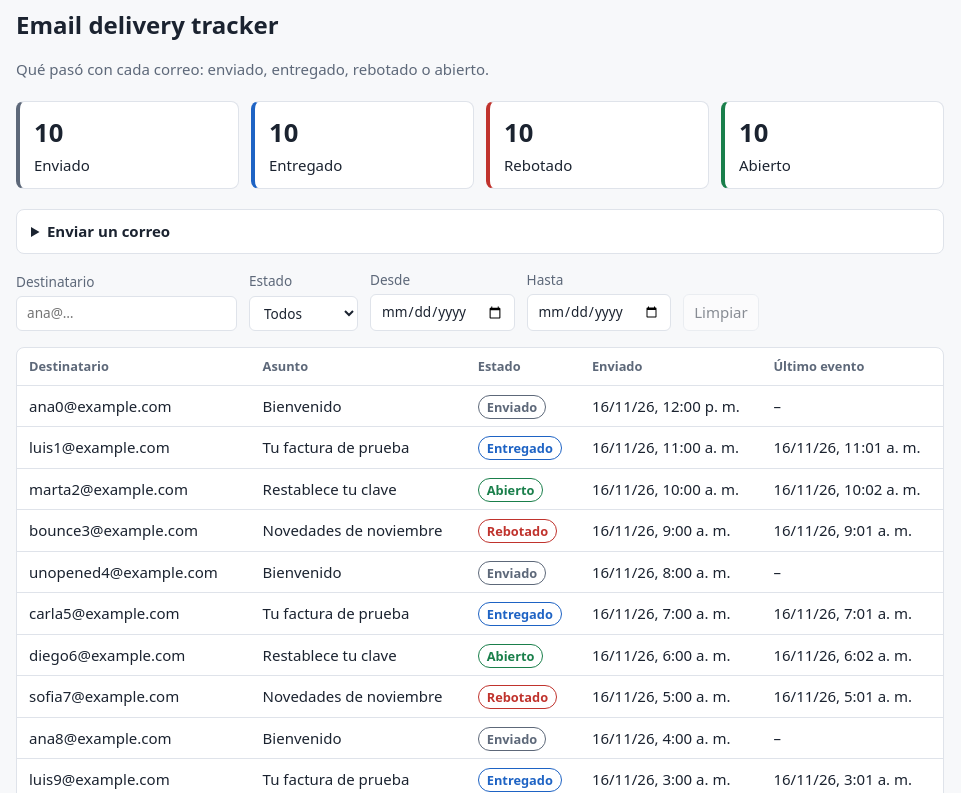
Test: enviar un correo lo confirma, limpia el formulario y aparece en la tabla
Click the heading "Enviar un correo" at (108, 231), box [47, 221, 170, 241]
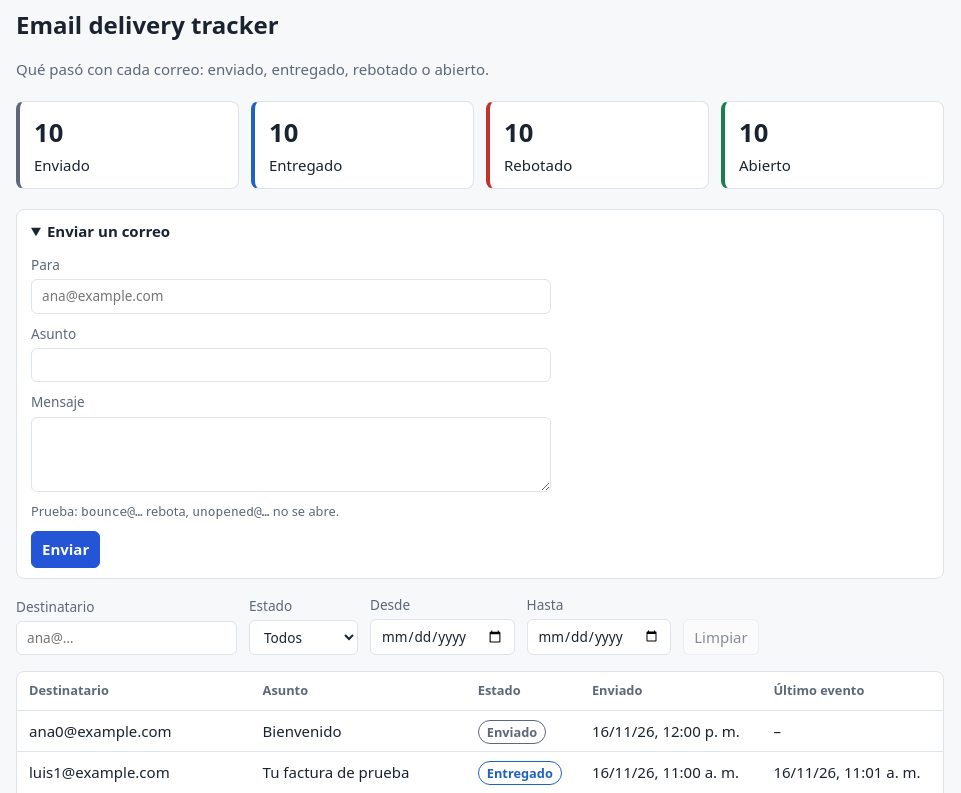
Type "nueva@example.com" into the field labelled "Para" at (291, 296), box [31, 279, 551, 314]
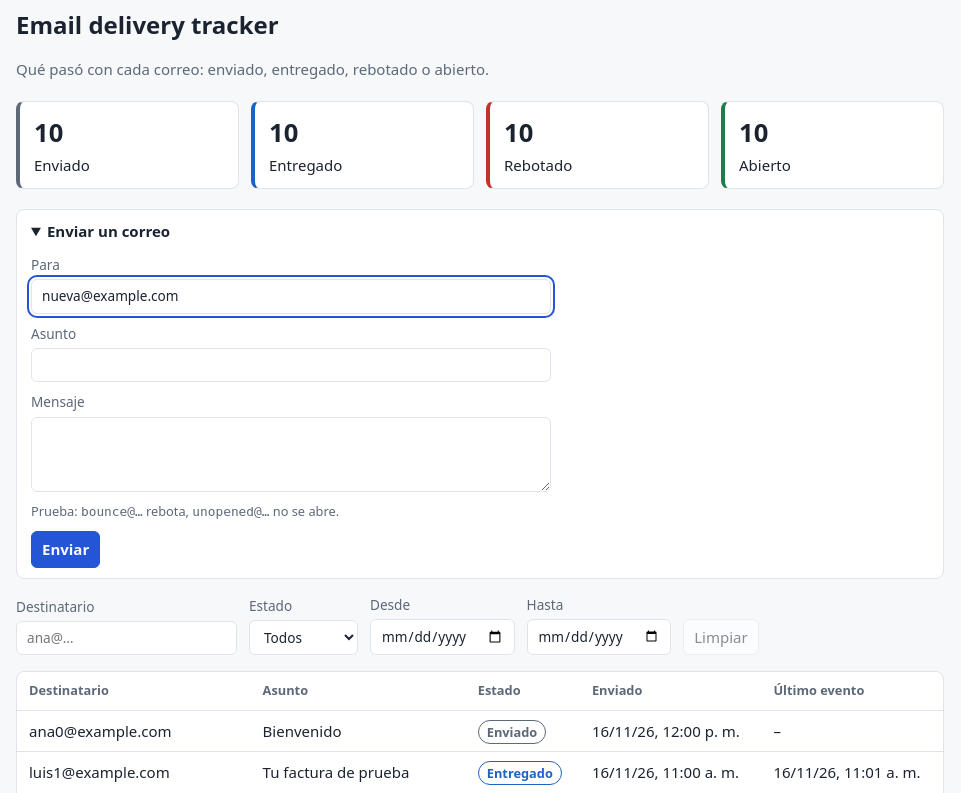
Type "Hola desde el test" into the field labelled "Asunto" at (291, 365), box [31, 348, 551, 382]
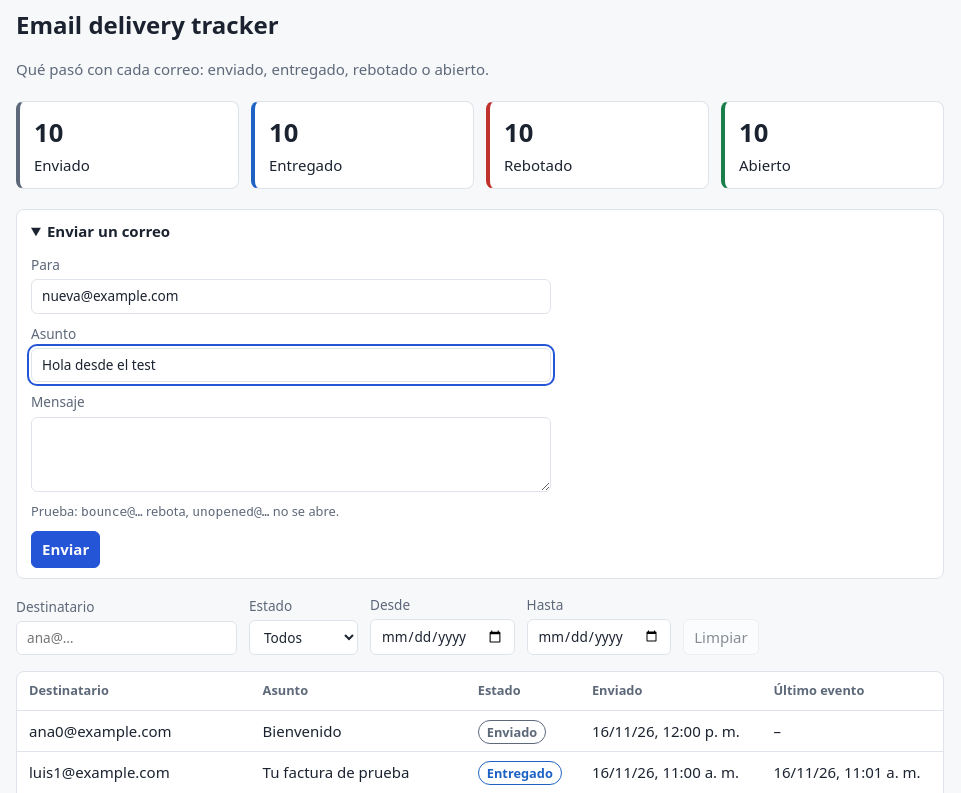
Type "Texto" into the text box labelled "Mensaje" at (291, 454), box [31, 417, 551, 492]
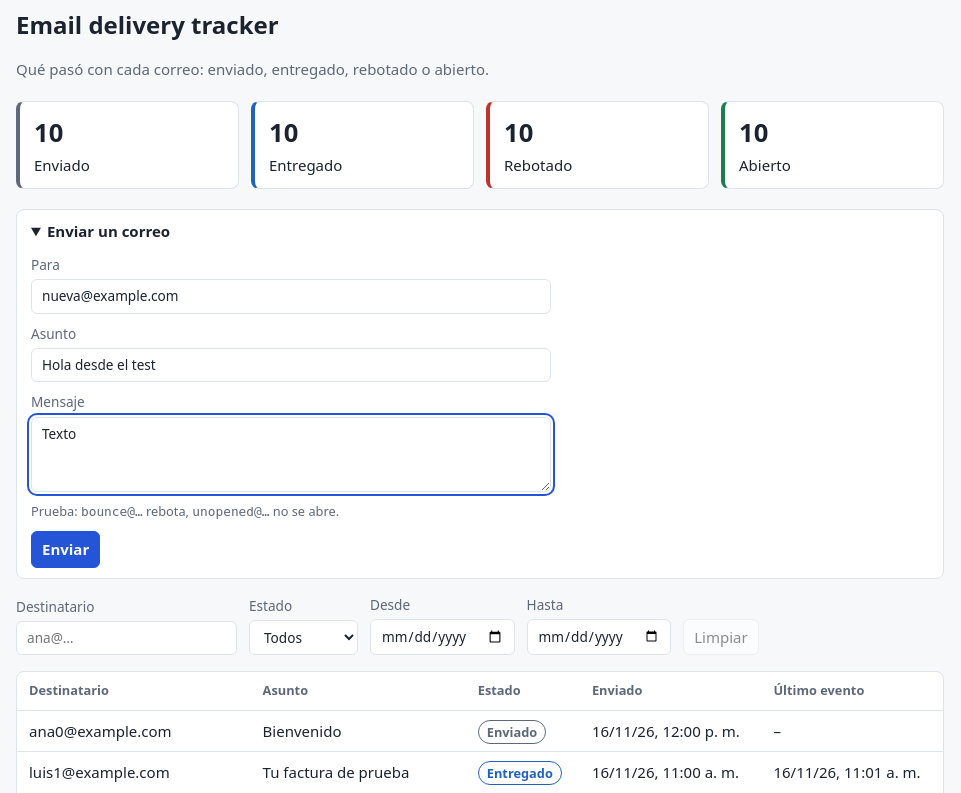
Click the button "Enviar" at (66, 549), box [31, 531, 100, 568]
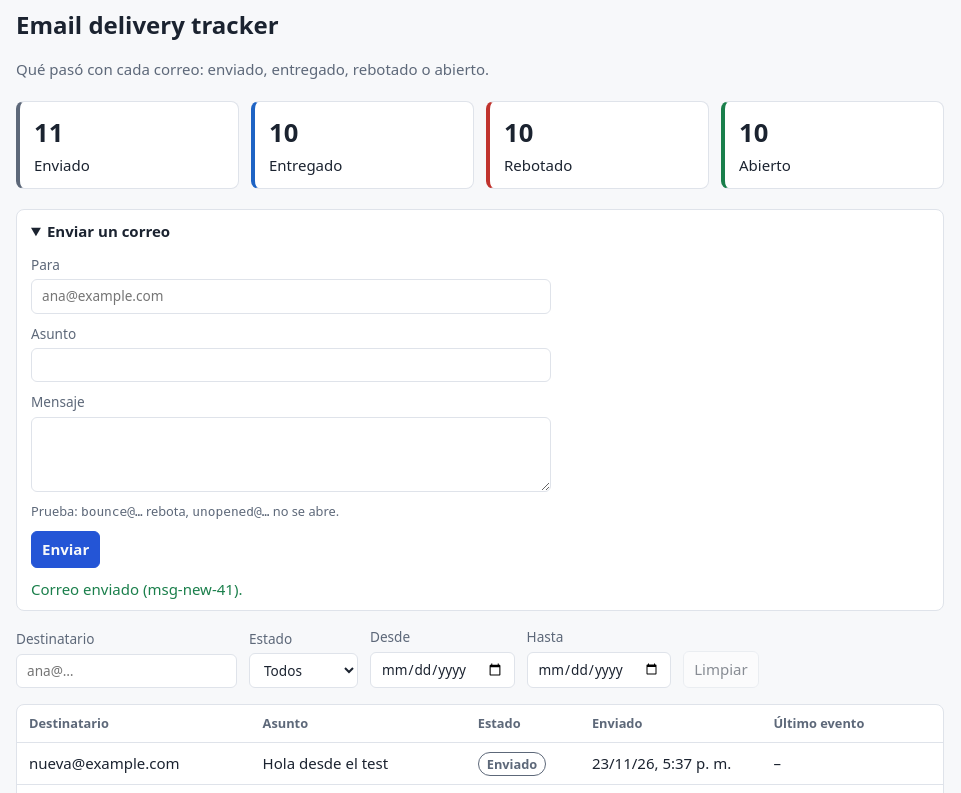
Now the message shows "Correo enviado", box [31, 579, 242, 599]
Now the field labelled "Para" is empty, box [31, 279, 551, 314]
Now the text "nueva@example.com" is shown, box [17, 743, 251, 784]
